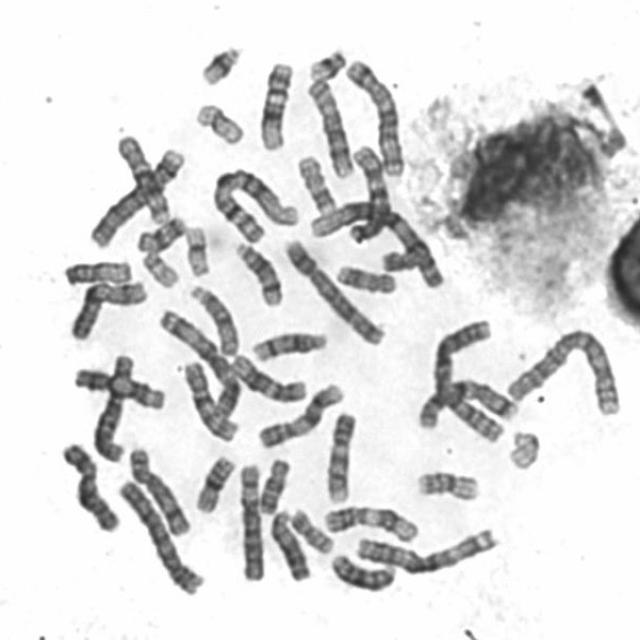A1: (310, 200, 446, 291), (205, 167, 304, 245)
A2: (506, 328, 623, 417), (432, 318, 505, 443)
A3: (156, 310, 242, 432), (354, 526, 500, 574)
B4: (115, 480, 206, 598), (88, 146, 186, 250)
B5: (286, 239, 386, 345), (344, 57, 407, 178)
C10: (113, 132, 171, 225), (179, 358, 241, 442)
C11: (69, 367, 167, 411), (322, 506, 421, 544)
C12: (229, 353, 308, 403), (258, 58, 296, 152)
C6: (91, 355, 134, 466), (237, 464, 266, 581)
C7: (302, 79, 356, 177), (346, 144, 392, 246)
C8: (126, 447, 192, 535), (60, 443, 119, 533)
C9: (257, 382, 346, 448), (325, 408, 360, 504)
D13: (269, 510, 311, 583), (327, 552, 399, 593)
D14: (230, 241, 284, 309), (252, 330, 328, 364)
D15: (188, 285, 240, 356), (63, 260, 133, 286)
E16: (411, 465, 484, 506), (194, 454, 236, 516)
E17: (294, 156, 339, 216), (333, 264, 396, 295)
E18: (136, 214, 190, 255), (258, 456, 290, 516)
F19: (195, 104, 246, 146), (183, 225, 214, 281)
F20: (288, 509, 336, 557), (384, 238, 429, 274)
G21: (197, 45, 248, 88), (307, 49, 348, 84)
G22: (141, 252, 182, 290), (506, 430, 544, 470)
X: (418, 378, 520, 430), (67, 280, 148, 343)
